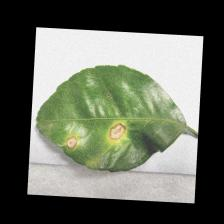canker: (48, 122, 141, 162)
